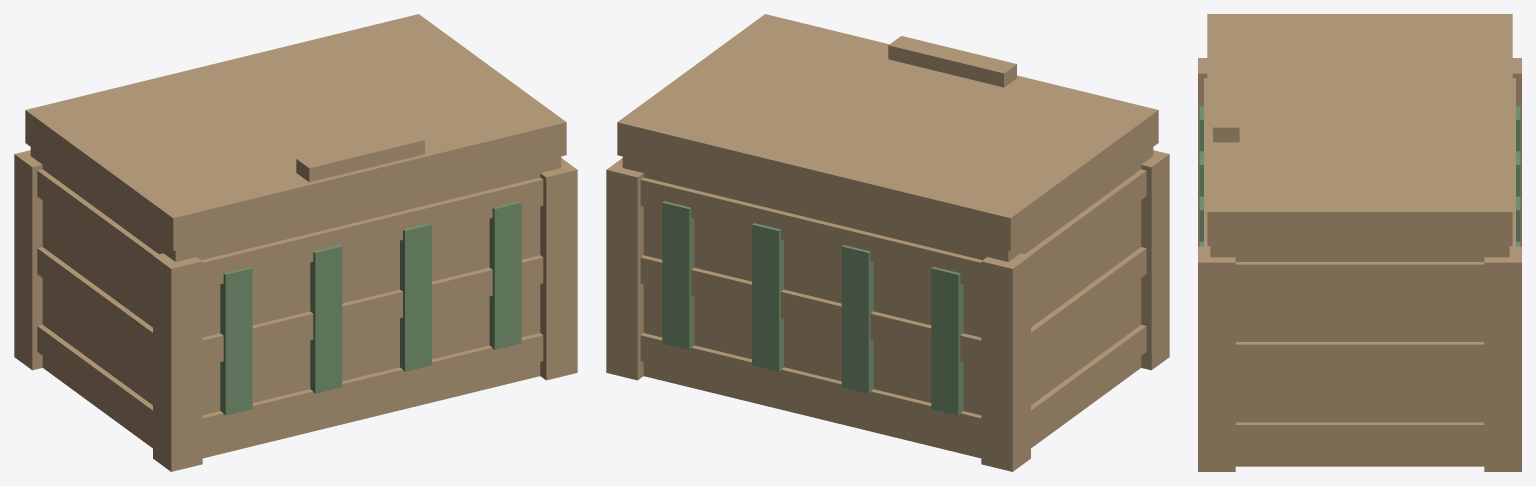
File: wipe-day-survival-island-food-crate-4f42c672__27448.glb
3 renders of one model, left to right at view 1: azimuth 30°, elevation 25°; view 2: azimuth 150°, elevation 25°; view 3: azimuth 270°, elevation 25°, orthographic. The views are drawn at different scales.
Visible parts, largest first — view 1: food-crate, lid; view 2: food-crate, lid; view 3: food-crate, lid.
Part boxes in pixels (x1,y1,x2,y2): food-crate: (14, 147, 577, 471); lid: (25, 14, 566, 250); food-crate: (606, 147, 1169, 471); lid: (617, 14, 1158, 250); food-crate: (1198, 58, 1521, 471); lid: (1207, 14, 1512, 245).
Size of the model in its own units: 0.906 by 0.56 by 0.606.
